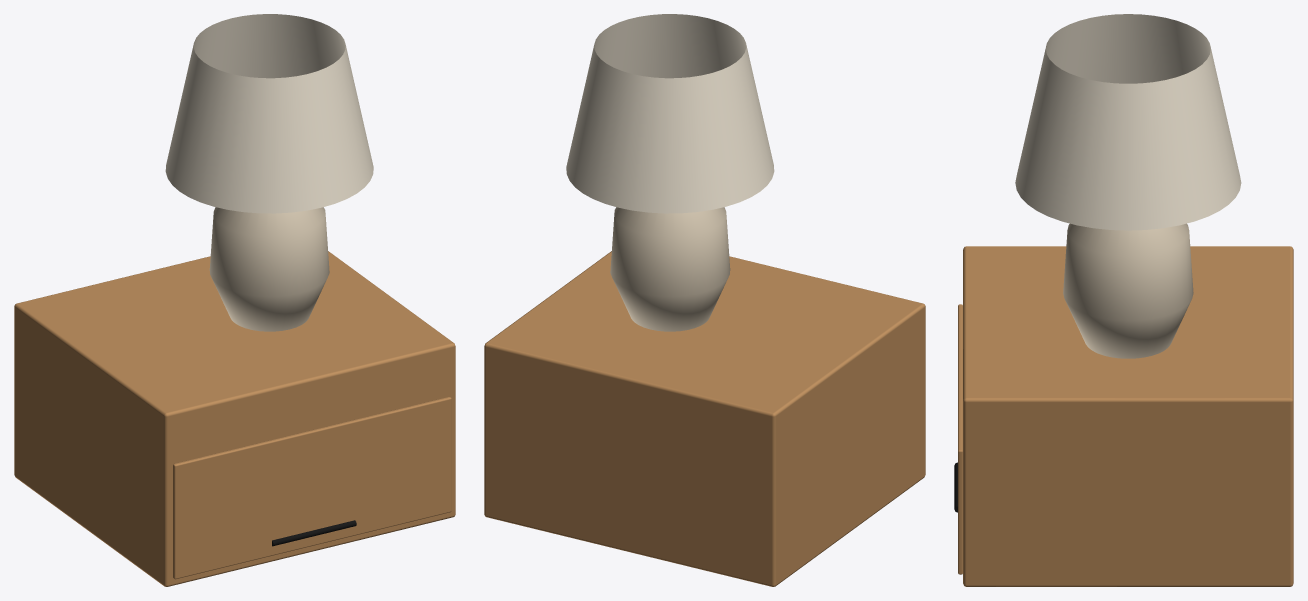
File: criado.glb
3 renders of one model, left to right at view 1: azimuth 30°, elevation 25°; view 2: azimuth 150°, elevation 25°; view 3: azimuth 270°, elevation 25°, orthographic. The views are drawn at different scales.
Parts seen in each view (by area): view 1: criado_corpo, abajur_cupula, criado_gaveta, abajur_base, criado_puxador; view 2: criado_corpo, abajur_cupula, abajur_base; view 3: criado_corpo, abajur_cupula, abajur_base, criado_gaveta.
Boxes of the visible parts, x1=… form: criado_corpo: x1=14, y1=251, x2=455, y2=586; abajur_cupula: x1=165, y1=14, x2=373, y2=213; criado_gaveta: x1=173, y1=397, x2=451, y2=579; abajur_base: x1=209, y1=207, x2=329, y2=331; criado_puxador: x1=272, y1=520, x2=356, y2=546; criado_corpo: x1=484, y1=251, x2=925, y2=586; abajur_cupula: x1=566, y1=14, x2=774, y2=213; abajur_base: x1=610, y1=207, x2=730, y2=331; criado_corpo: x1=963, y1=246, x2=1293, y2=586; abajur_cupula: x1=1015, y1=14, x2=1241, y2=230; abajur_base: x1=1063, y1=223, x2=1193, y2=358; criado_gaveta: x1=958, y1=304, x2=962, y2=574.
Bounding box in the file's own units: 0.42 × 0.61 × 0.39.
